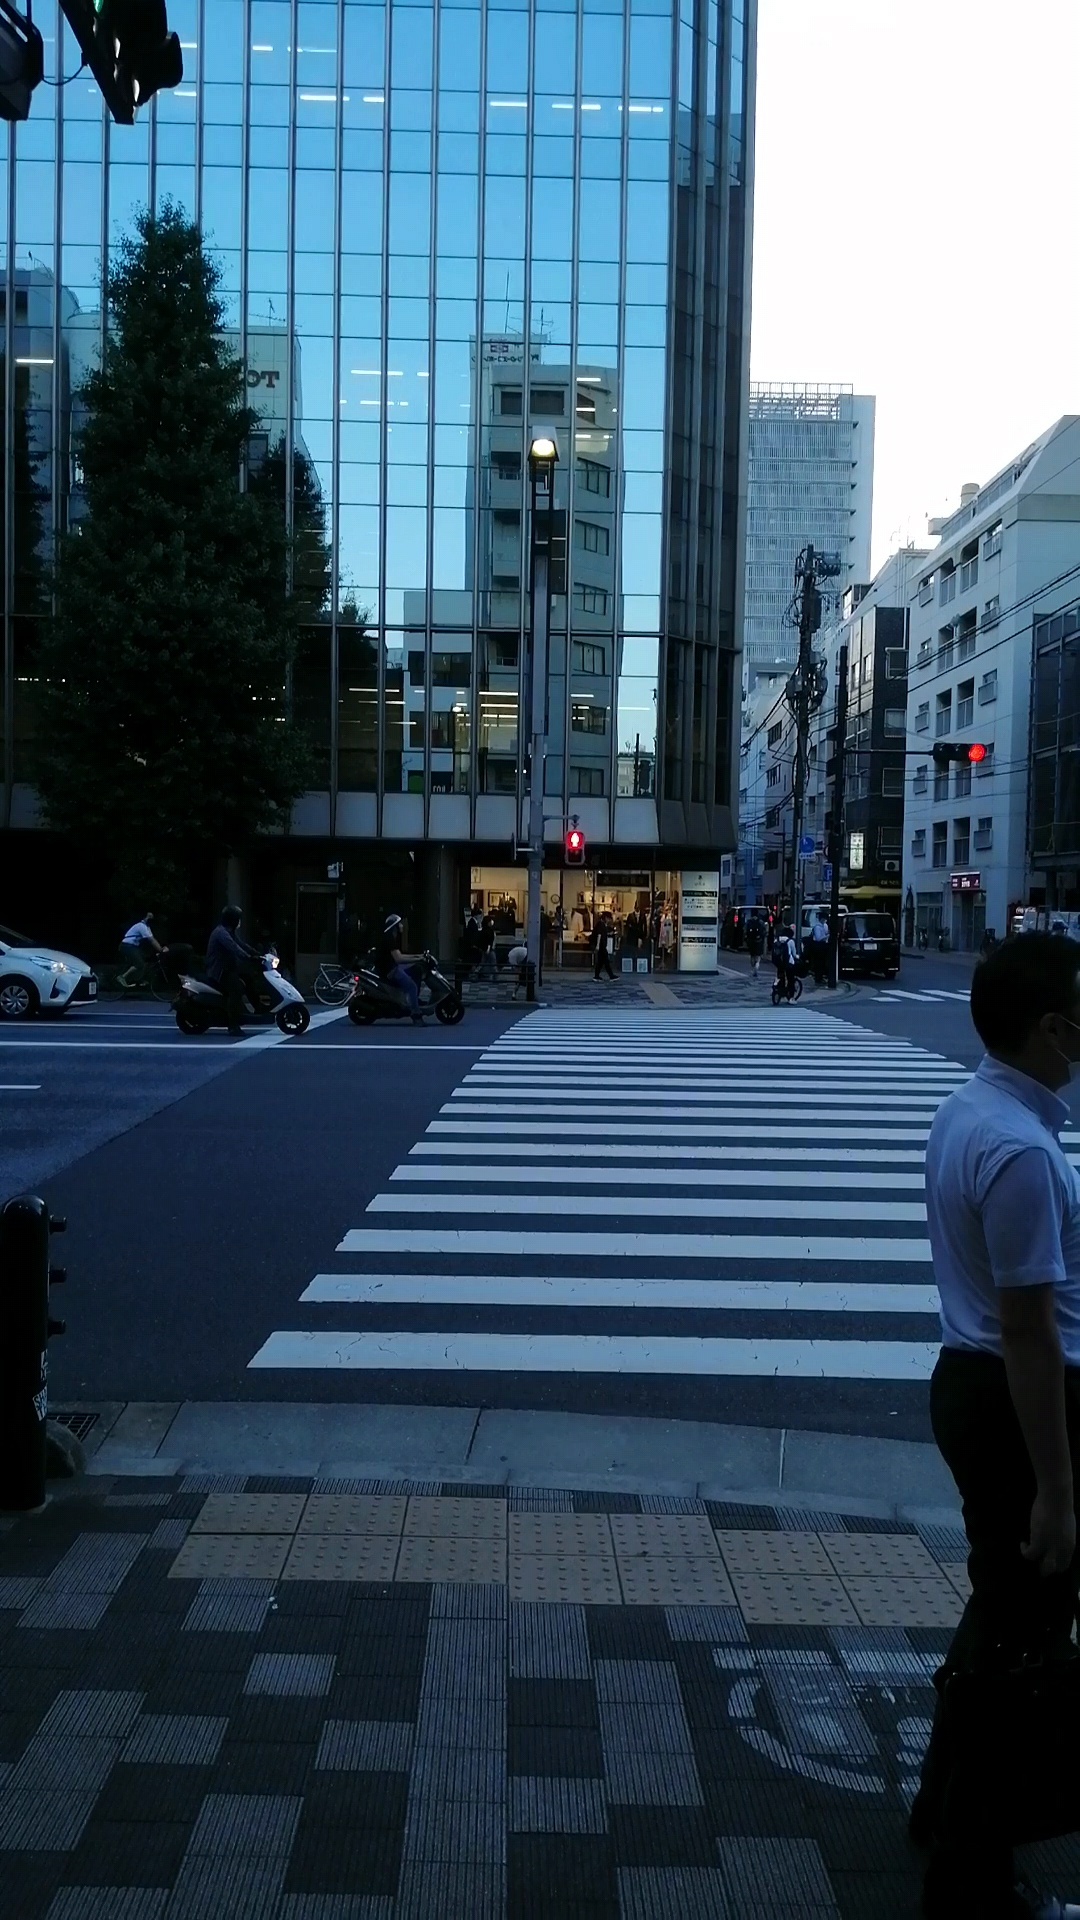red: (563, 831, 584, 866)
